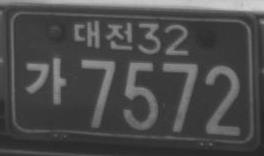2: (203, 63, 241, 138), (162, 22, 190, 57)
3: (136, 20, 162, 55)
5: (121, 60, 159, 131)
7: (160, 60, 200, 135), (79, 57, 117, 129)
가: (23, 57, 67, 106)
대전_O: (72, 19, 134, 51)
